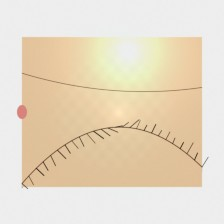hemorrhage_spot: (60, 69, 135, 129)
